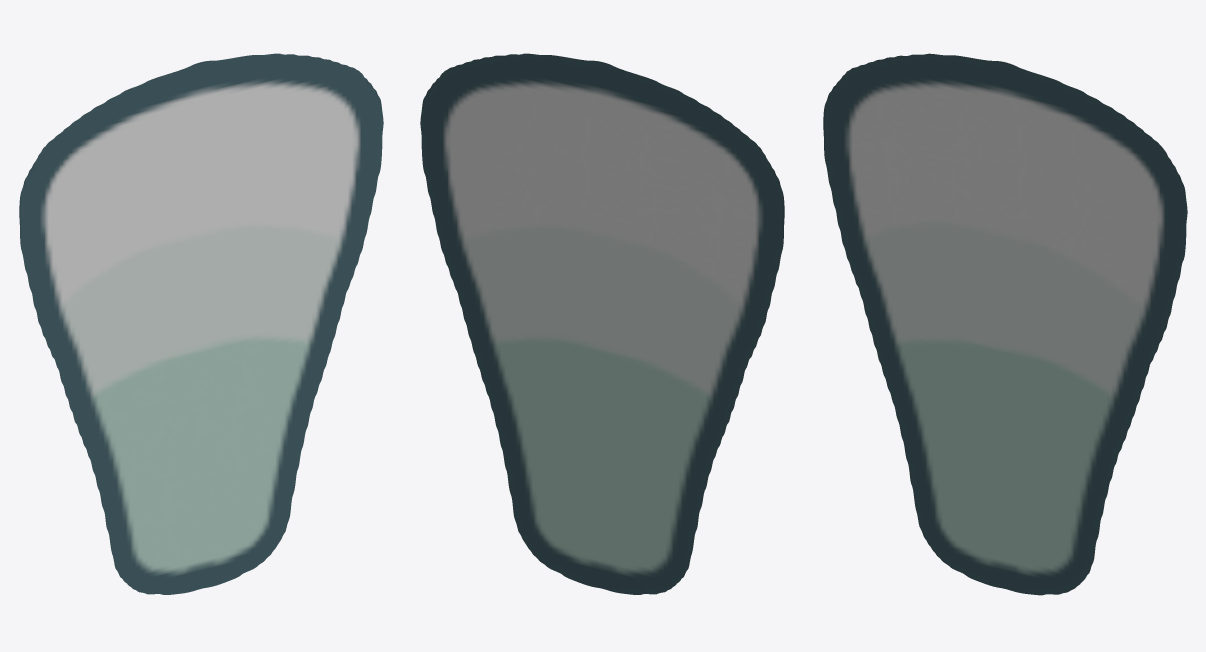
The model's file is PetaloBlanco.fbx.
3 renders of one model, left to right at view 1: azimuth 30°, elevation 25°; view 2: azimuth 150°, elevation 25°; view 3: azimuth 330°, elevation 25°, orthographic.
Visible parts, largest first — view 1: PetaloBlanco; view 2: PetaloBlanco; view 3: PetaloBlanco.
Part boxes in pixels (x1=…): PetaloBlanco: x1=19, y1=53, x2=383, y2=594; PetaloBlanco: x1=420, y1=53, x2=784, y2=594; PetaloBlanco: x1=823, y1=53, x2=1187, y2=595.
Size of the model in its own units: 0.2228 by 0.304 by 1.33e-08.
